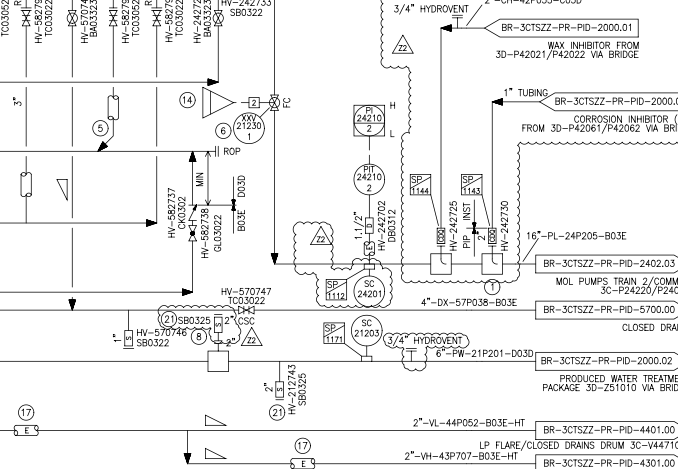Instrument: (348, 156, 389, 197), (231, 110, 268, 147), (348, 312, 383, 350), (353, 273, 387, 308)
Instrument-square: (346, 100, 388, 138)
